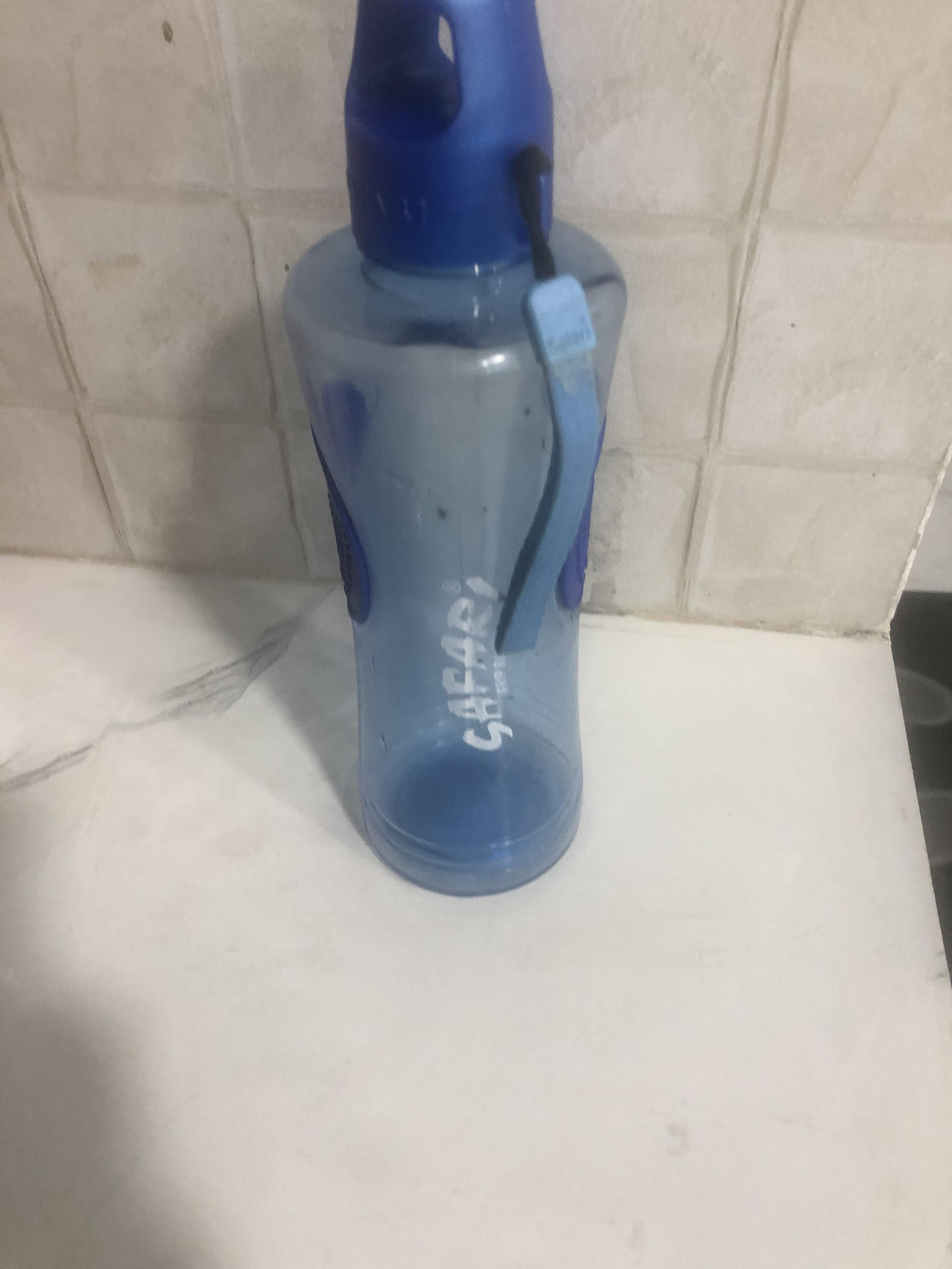gym bottle: (278, 0, 638, 902)
